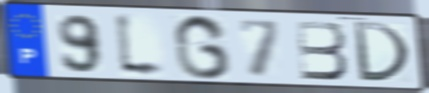7: (237, 18, 283, 79)
9: (55, 13, 104, 74)
B: (293, 19, 351, 82)
D: (350, 20, 413, 85)
G: (172, 13, 234, 81)
L: (112, 10, 170, 80)
